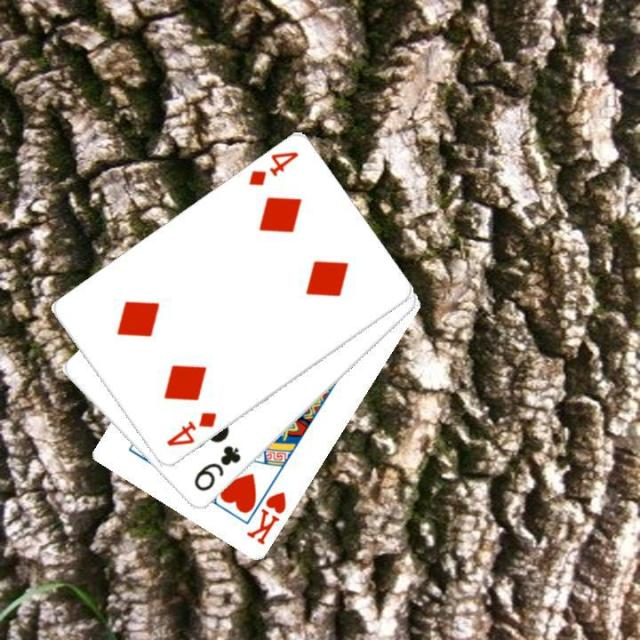4D: (162, 408, 218, 449), (243, 148, 300, 188)
9C: (190, 442, 243, 494)
KH: (243, 487, 289, 548)
